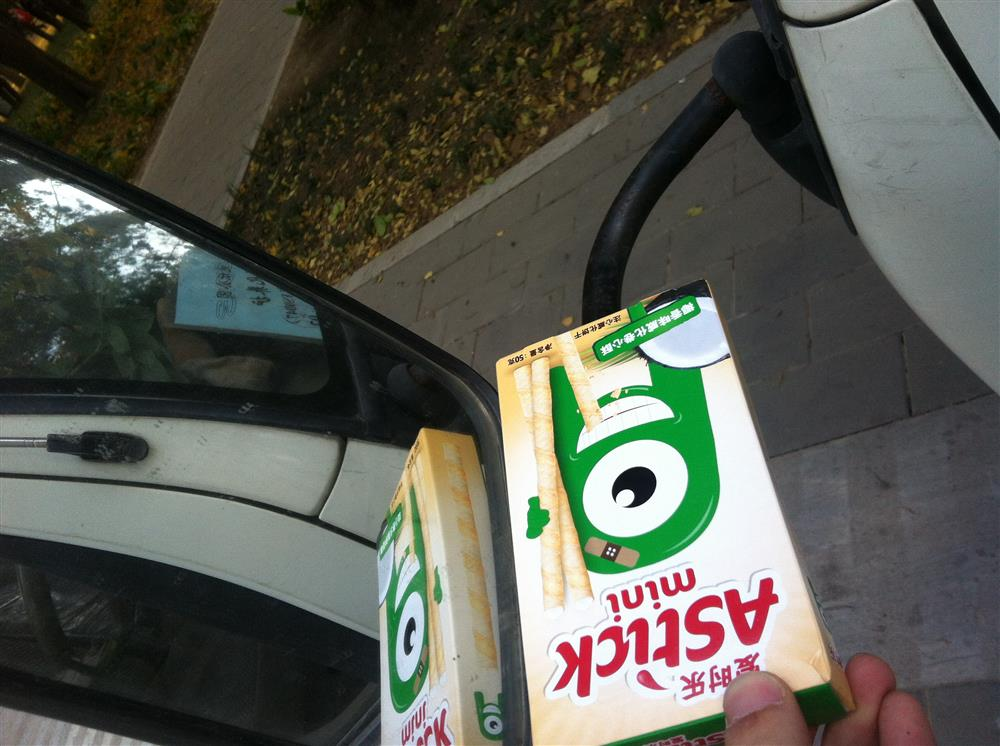AstickMini: (492, 278, 858, 741)
